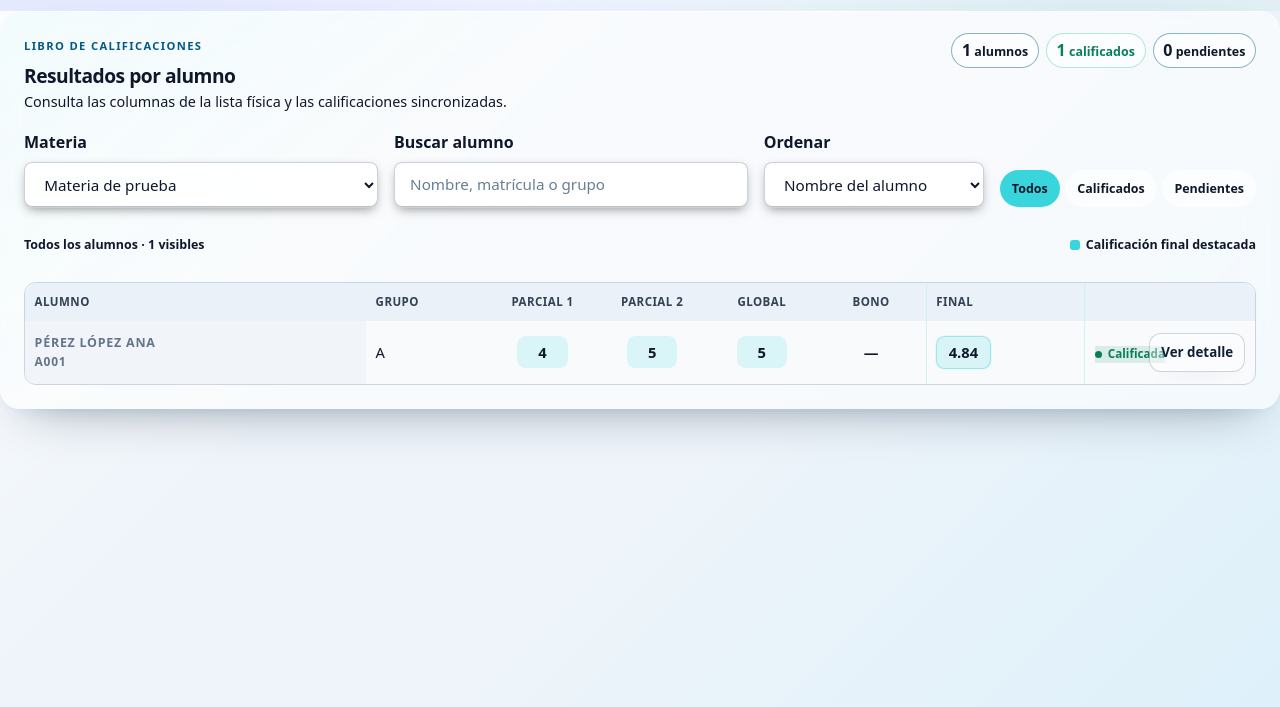
ConsultaCalificaciones › presenta un resultado externo sin inventar lote ni examen generado
The image size is (1280, 707).
Click the button with aria-label "Ver detalle de Pérez López Ana" at (1197, 352), box x1=1149 y1=333 x2=1245 y2=372
(page scrolled)
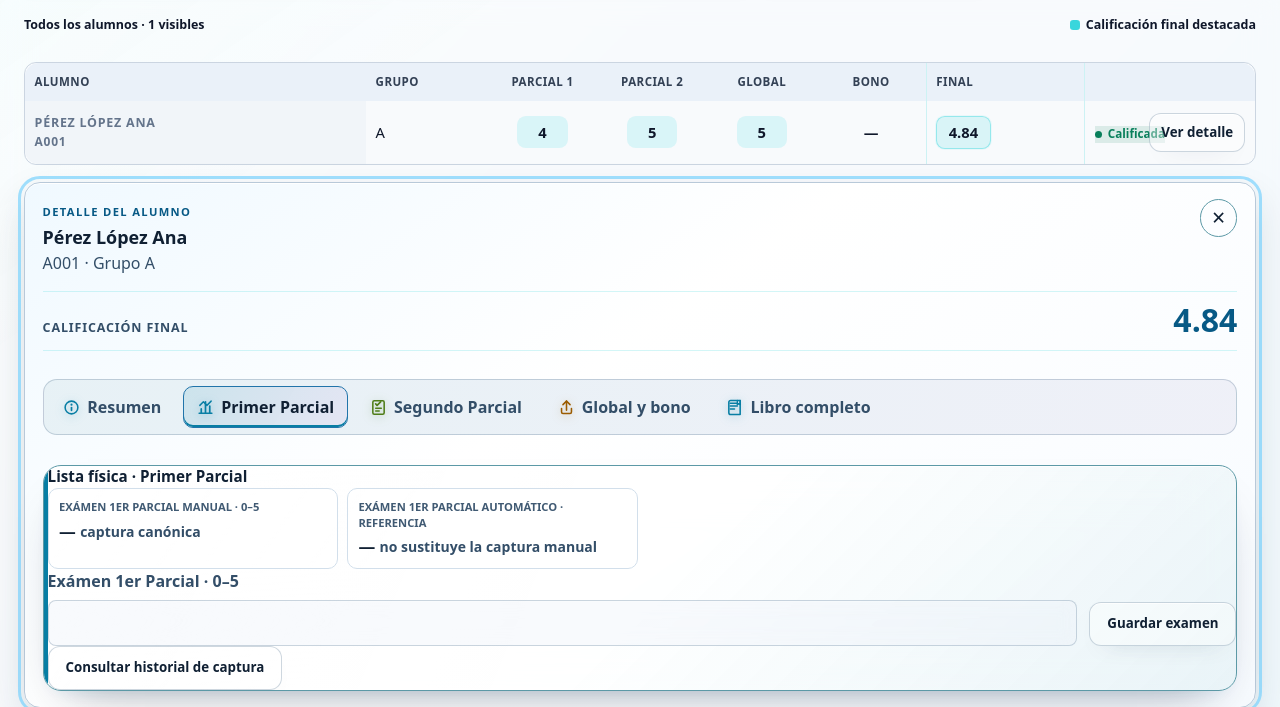
Click the button "Resumen" at (112, 407), box x1=49 y1=386 x2=175 y2=428
(page scrolled)
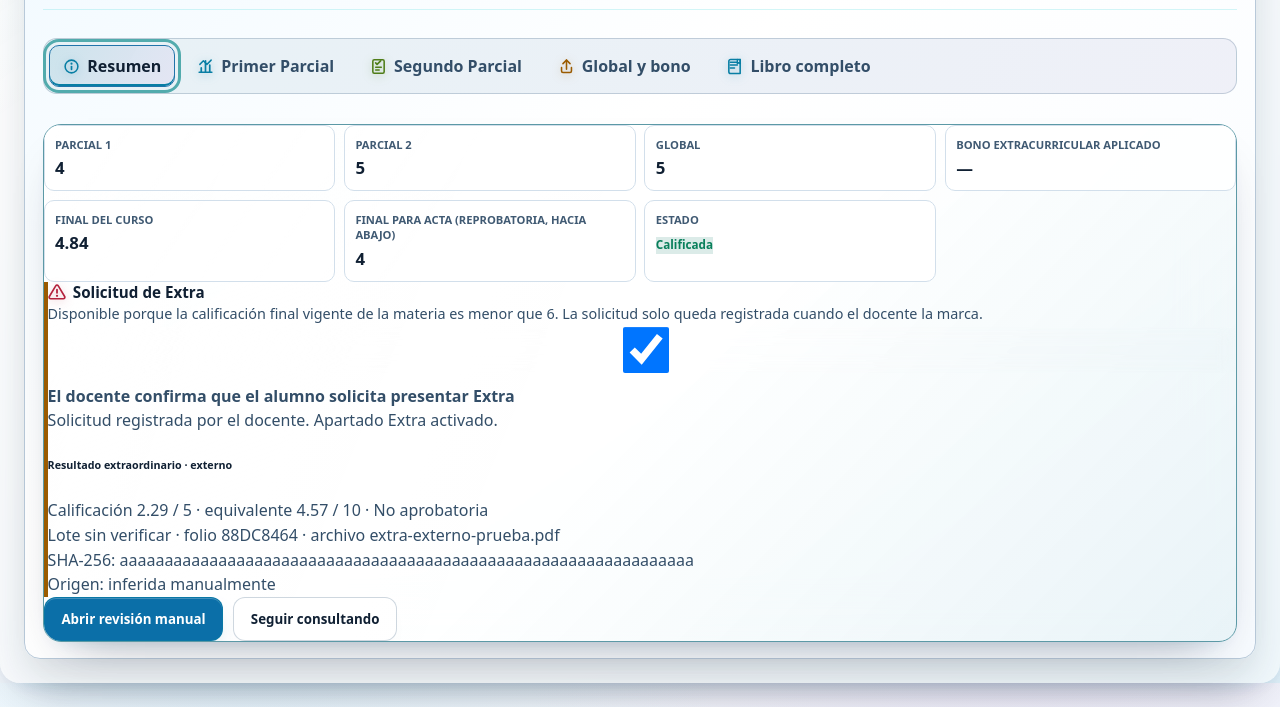
Check: the heading "Resultado extraordinario · externo" is shown, box x1=48 y1=458 x2=232 y2=472
Check: the text "Lote sin verificar · folio 88DC8464 · archivo extra-externo-prueba.pdf" is shown, box x1=48 y1=524 x2=560 y2=546
